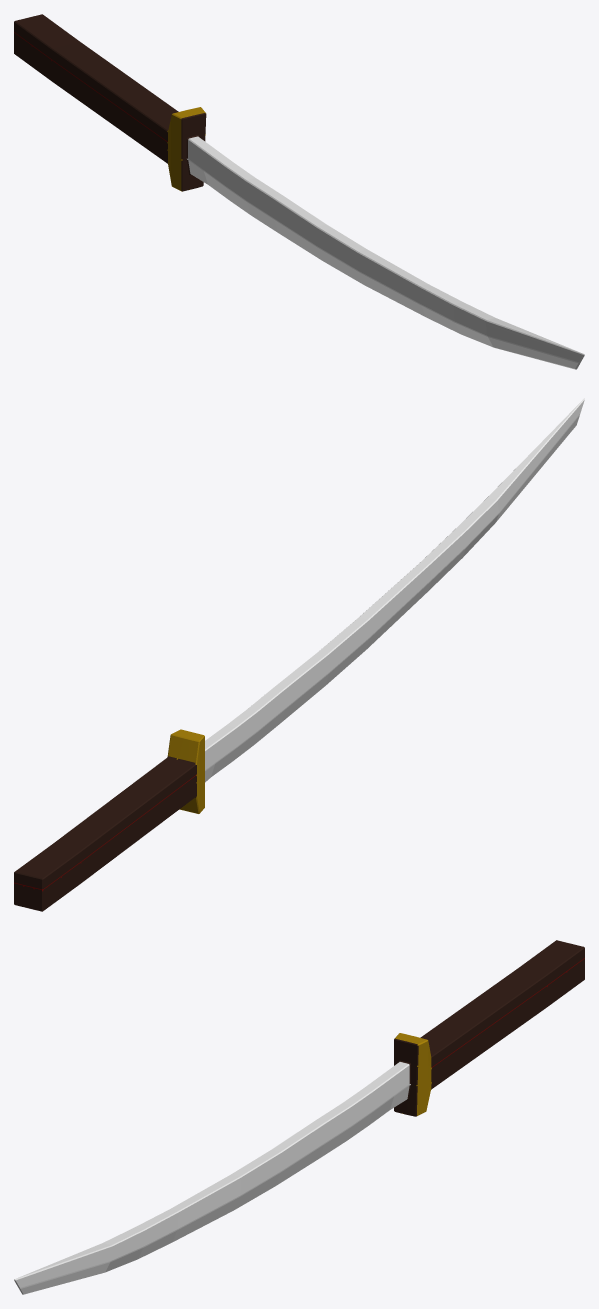
The model's file is katana.fbx.
3 views of the same model, one above another, from view 1: azimuth 30°, elevation 25°; view 2: azimuth 150°, elevation 25°; view 3: azimuth 330°, elevation 25° (orthographic).
Parts seen in each view (by area): view 1: Cube; view 2: Cube; view 3: Cube.
Boxes of the visible parts, left/top/right/bottom form: Cube: left=14, top=14, right=584, bottom=369; Cube: left=14, top=398, right=584, bottom=911; Cube: left=14, top=940, right=584, bottom=1294.
Size of the model in its own units: 12.52 by 48.6 by 403.
